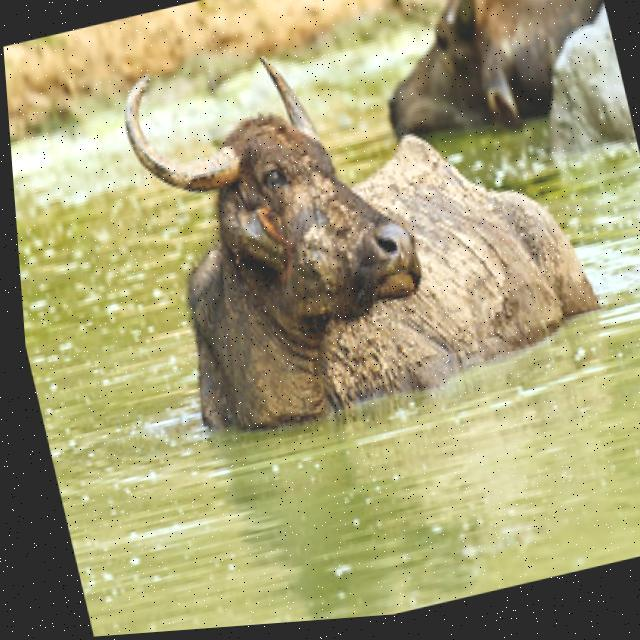Buffalo: (97, 0, 612, 451)
